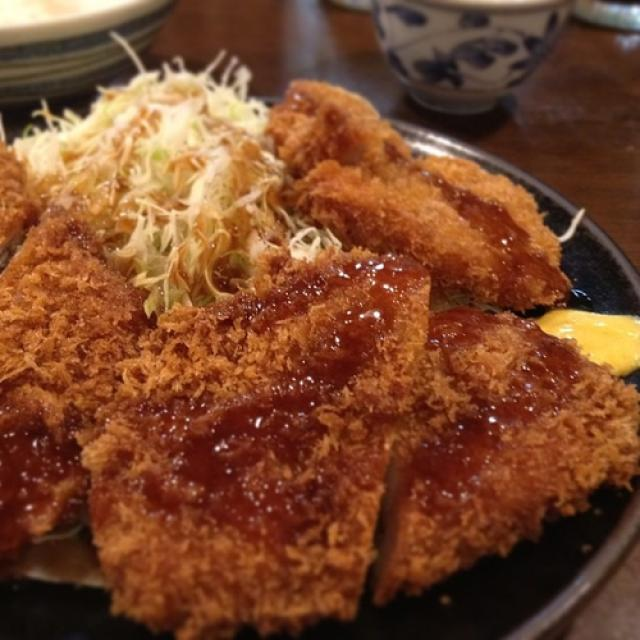牛肉菜式: (8, 80, 635, 610)
